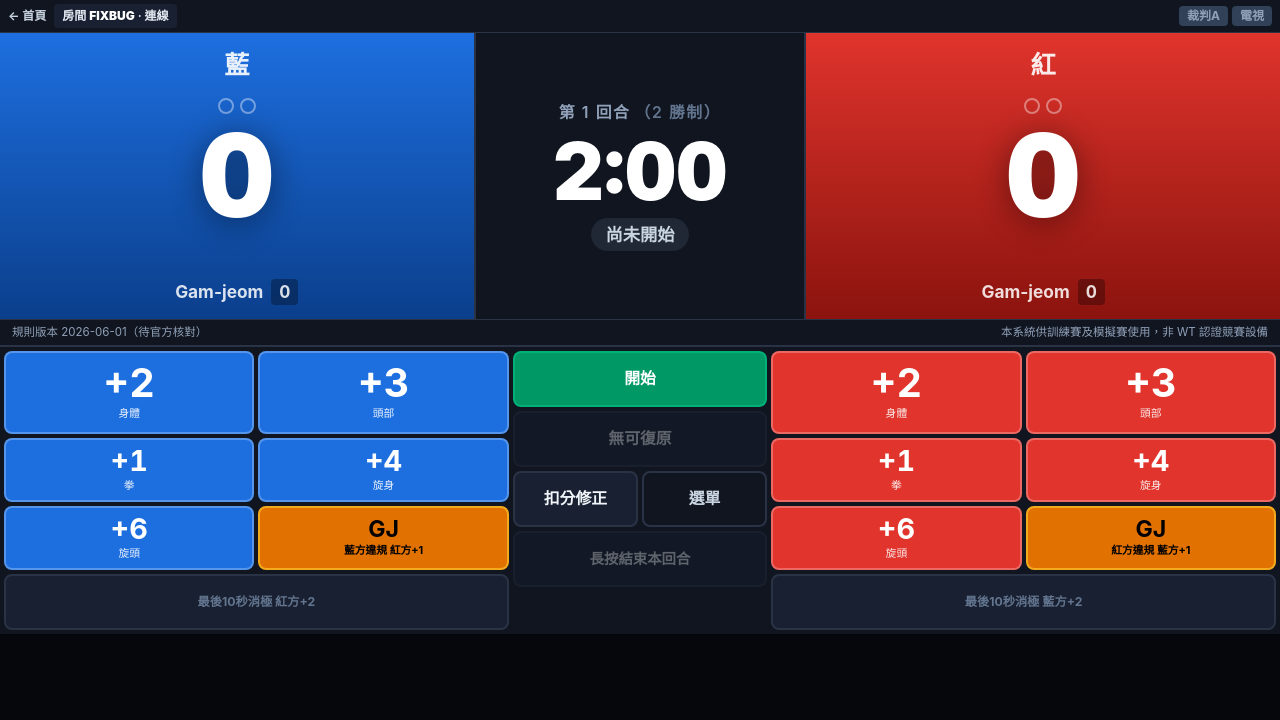
Test: 主控端｜扣分修正 › 尚未開始就計分會被拒絕，並顯示原因
This screenshot has width=1280, height=720.
Click the button with aria-label "藍方 頭部踢擊 得 3 分": point(384, 393) 258,351 -> 509,434
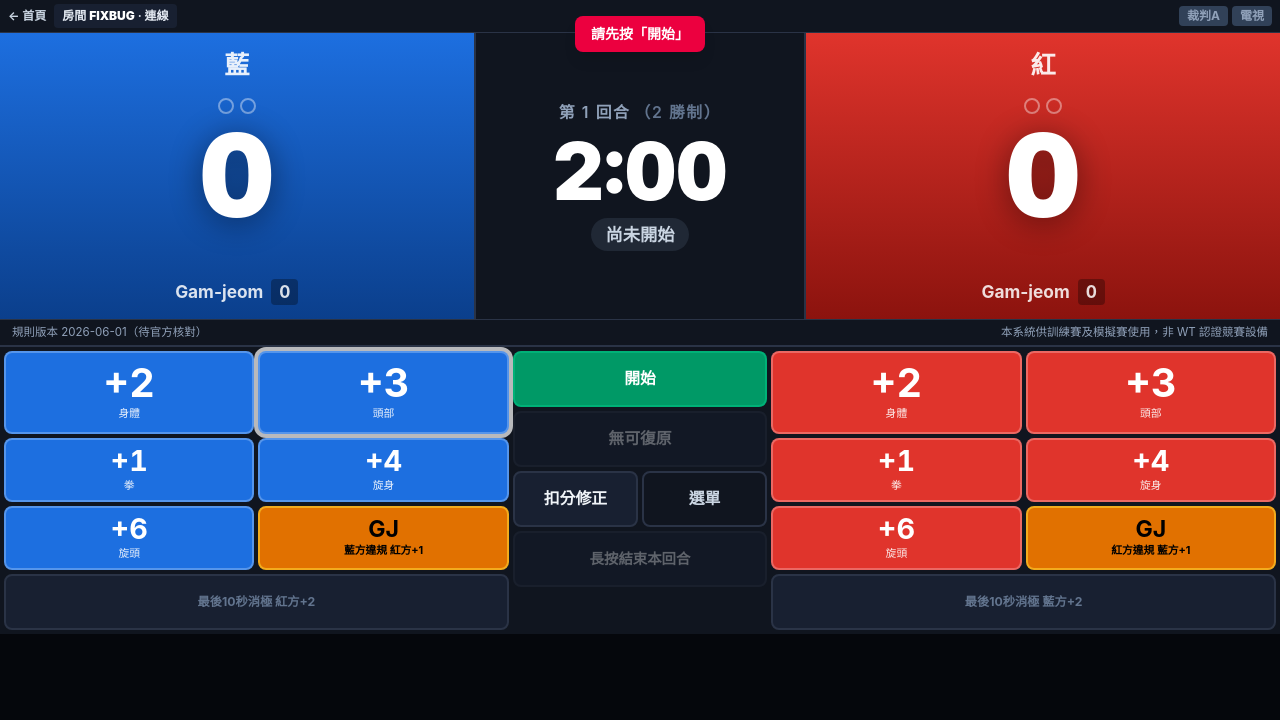
Now the message shows "請先按", box 591,25 -> 689,42
